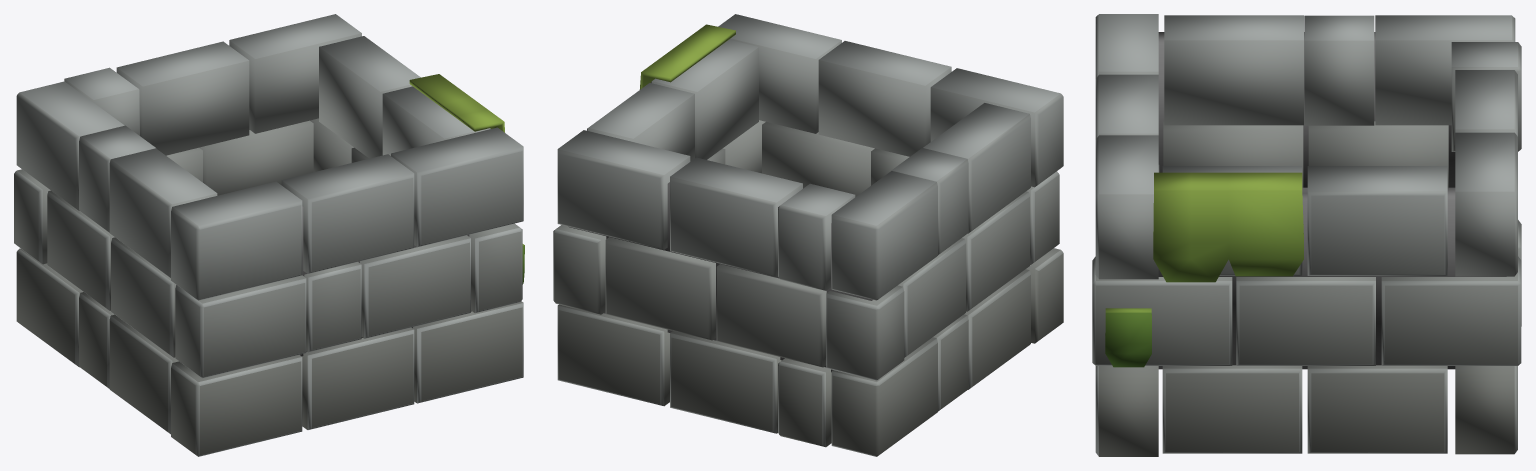
File: well.fbx
The picture shows the model from 3 angles, left to right: view 1: azimuth 30°, elevation 25°; view 2: azimuth 150°, elevation 25°; view 3: azimuth 270°, elevation 25°; orthographic projection. The views are drawn at different scales.
Parts seen in each view (by area): view 1: well; view 2: well; view 3: well.
Boxes of the visible parts, left/top/right/bottom form: well: left=14, top=14, right=524, bottom=456; well: left=553, top=14, right=1063, bottom=456; well: left=1092, top=14, right=1521, bottom=456.
Size of the model in its own units: 1.19 by 0.8048 by 1.16.
